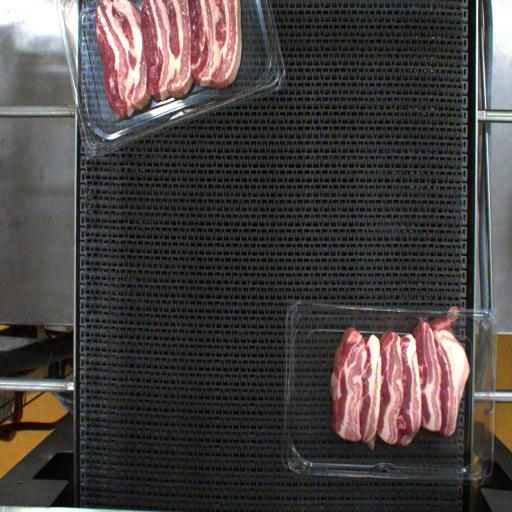packaging-error: (428, 300, 458, 324)
